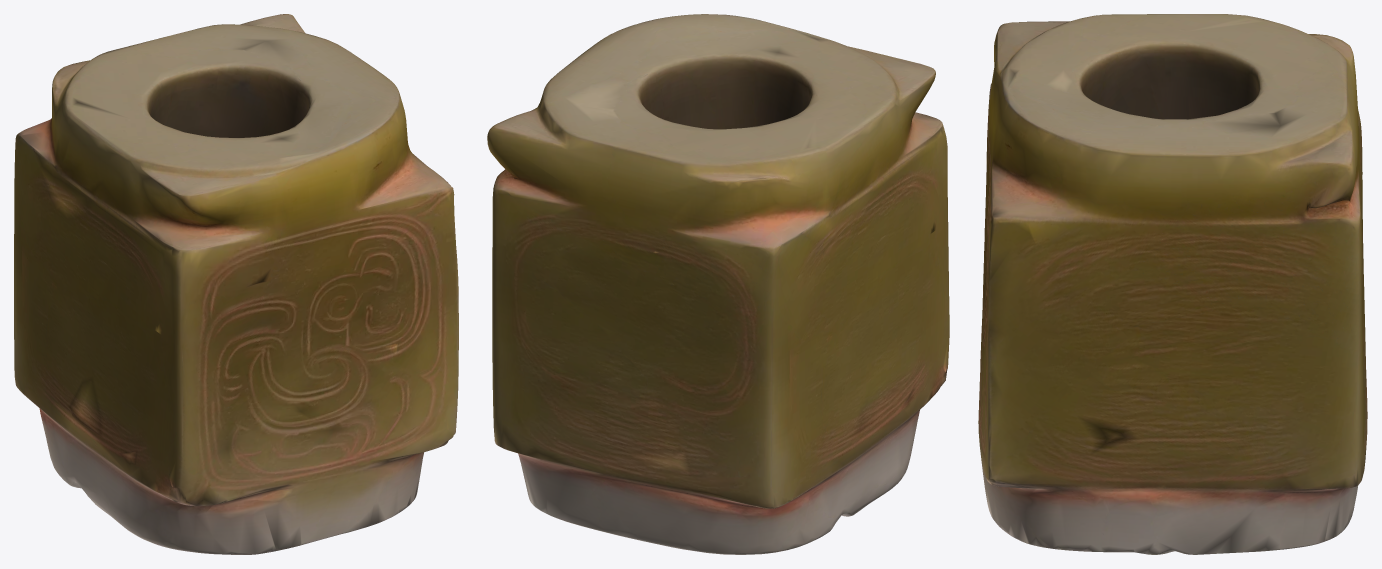
Rendered from zhangjiapo-bird-roaming.glb.
The picture shows the model from 3 angles, left to right: view 1: azimuth 30°, elevation 25°; view 2: azimuth 150°, elevation 25°; view 3: azimuth 270°, elevation 25°; orthographic projection. The views are drawn at different scales.
Parts seen in each view (by area): view 1: node_0; view 2: node_0; view 3: node_0.
Part boxes in pixels (box(x1,y1,x2,y2)): node_0: box(14, 14, 458, 554); node_0: box(487, 14, 949, 554); node_0: box(978, 14, 1367, 554).
Size of the model in its own units: 0.6719 by 0.845 by 0.7241.
Materials: 1 (1 with a texture image).
